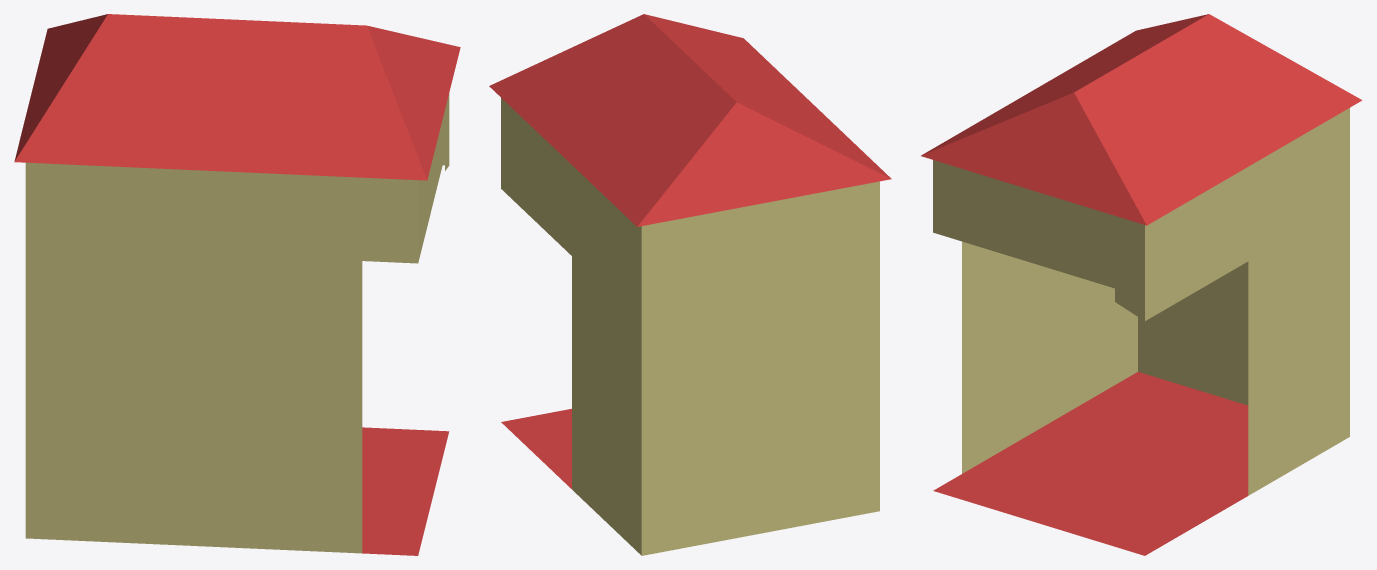
3 views of the same model, side by side, from view 1: azimuth 30°, elevation 25°; view 2: azimuth 150°, elevation 25°; view 3: azimuth 270°, elevation 25° (orthographic). The views are drawn at different scales.
Parts seen in each view (by area): view 1: group_5, group_3, group_6, group_4; view 2: group_5, group_3, group_4, group_6; view 3: group_5, group_3, group_6, group_4.
Part boxes in pixels (x1=…): group_5: x1=25, y1=93, x2=449, y2=553; group_3: x1=14, y1=14, x2=447, y2=180; group_6: x1=362, y1=427, x2=449, y2=555; group_4: x1=14, y1=31, x2=460, y2=180; group_5: x1=501, y1=98, x2=879, y2=555; group_3: x1=501, y1=14, x2=891, y2=226; group_4: x1=489, y1=35, x2=891, y2=226; group_6: x1=501, y1=408, x2=571, y2=488; group_5: x1=933, y1=108, x2=1349, y2=495; group_3: x1=928, y1=14, x2=1360, y2=214; group_6: x1=933, y1=372, x2=1248, y2=555; group_4: x1=921, y1=28, x2=1362, y2=225.
Bounding box in the file's own units: 12.67 × 12.15 × 12.44.
